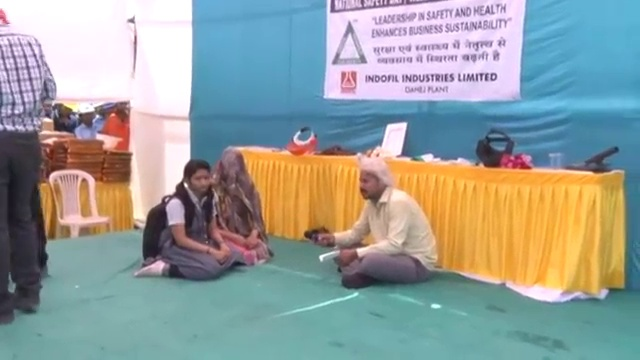helmet: (95, 133, 122, 150), (77, 103, 94, 115)
helmet_off: (350, 157, 393, 206), (217, 153, 251, 199), (180, 159, 213, 204), (60, 104, 73, 118), (115, 102, 128, 115)
helmet_on: (77, 102, 97, 128)
person: (0, 9, 56, 328), (312, 153, 438, 294), (135, 155, 241, 283), (215, 150, 274, 266), (103, 102, 129, 149), (74, 102, 104, 141), (54, 101, 76, 132)
